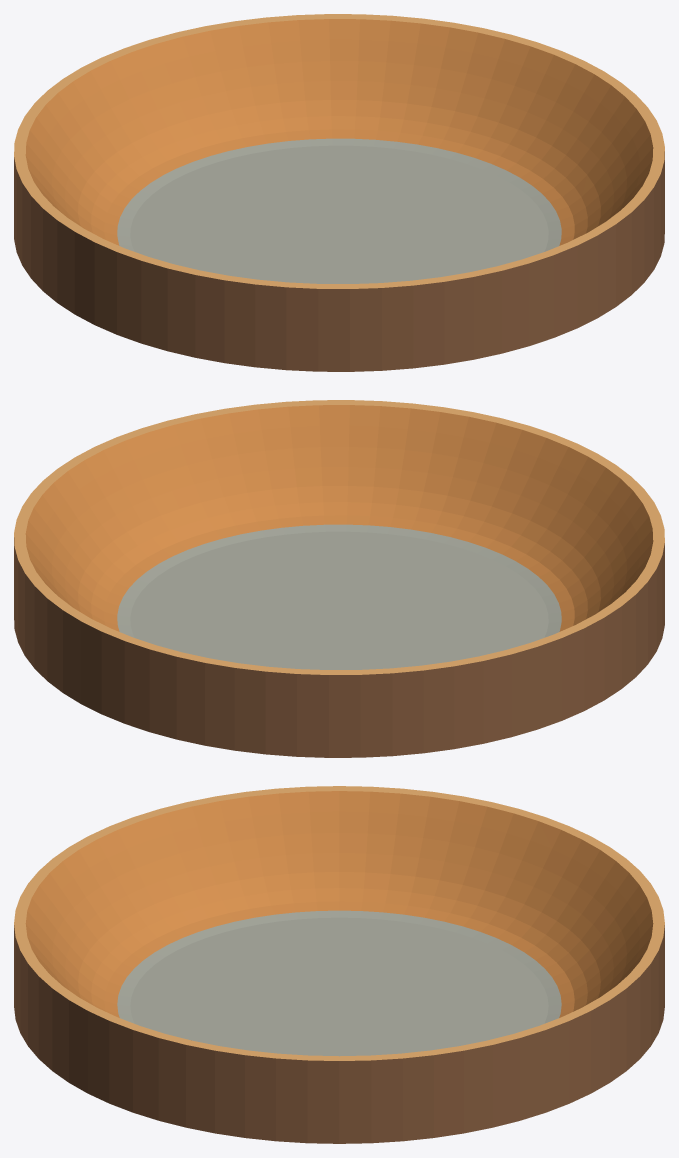
The model's file is wsc-kit-003-hover-bowl-24m.glb.
The picture shows the model from 3 angles, top to bottom: view 1: azimuth 30°, elevation 25°; view 2: azimuth 150°, elevation 25°; view 3: azimuth 270°, elevation 25°; orthographic projection.
Visible parts, largest first — view 1: W5a | 24m bowl lip centered on source; view 2: W5a | 24m bowl lip centered on source; view 3: W5a | 24m bowl lip centered on source.
Part boxes in pixels (box(x1,y1,x2,y2)): W5a | 24m bowl lip centered on source: box(14, 14, 664, 371); W5a | 24m bowl lip centered on source: box(14, 400, 664, 757); W5a | 24m bowl lip centered on source: box(14, 786, 664, 1143).
Size of the model in its own units: 24.9 by 3.5 by 24.9.
